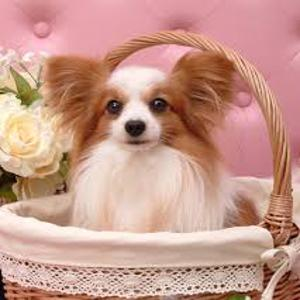yell: (45, 50, 253, 232)
